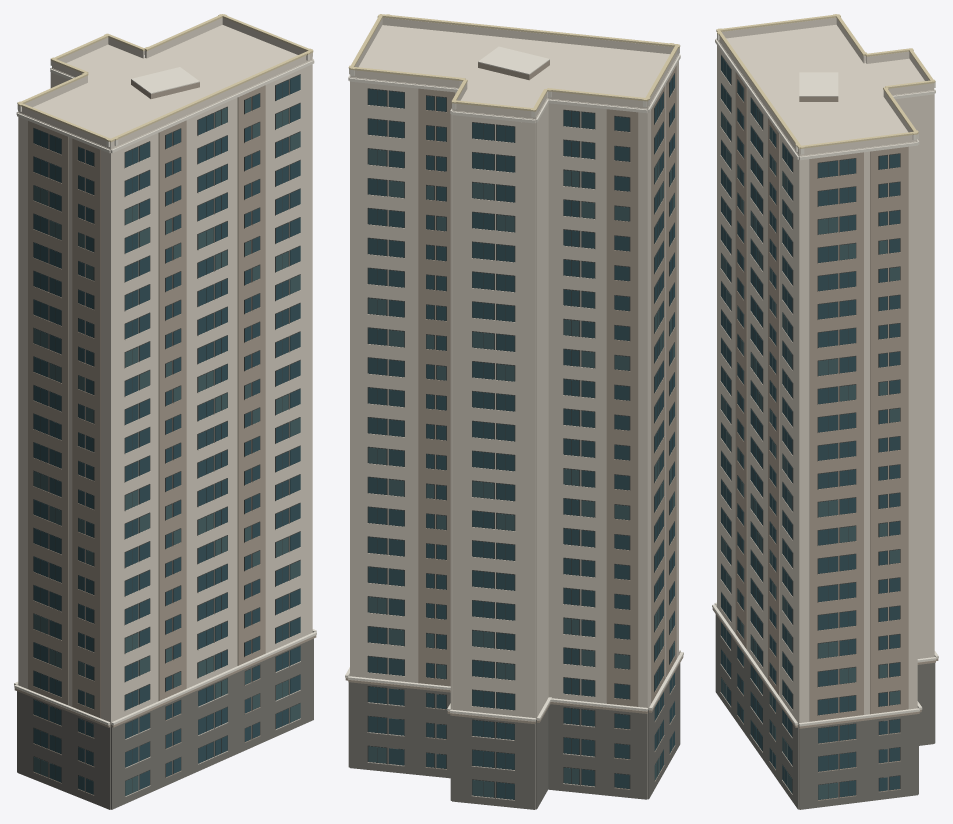
Rendered from bespoke-raemian-prestige-126.glb.
3 renders of one model, left to right at view 1: azimuth 30°, elevation 25°; view 2: azimuth 150°, elevation 25°; view 3: azimuth 270°, elevation 25°, orthographic. The views are drawn at different scales.
Parts seen in each view (by area): view 1: Prestige_warm_ivory_rendered_wall004, Prestige_wide_taupe_pilasters004, Prestige_recessed_blue_green_window004, Prestige_dark_bronze_thin_window_frame004, Prestige_dark_brown_grey_stone_base004, Prestige_muted_green_window_pair004, Prestige_pale_limestone_band004, Prestige_cream_gold_crown_coping004; view 2: Prestige_warm_ivory_rendered_wall004, Prestige_recessed_blue_green_window004, Prestige_wide_taupe_pilasters004, Prestige_dark_brown_grey_stone_base004, Prestige_dark_bronze_thin_window_frame004, Prestige_muted_green_window_pair004, Prestige_pale_limestone_band004, Prestige_cream_gold_crown_coping004; view 3: Prestige_warm_ivory_rendered_wall004, Prestige_wide_taupe_pilasters004, Prestige_recessed_blue_green_window004, Prestige_dark_bronze_thin_window_frame004, Prestige_dark_brown_grey_stone_base004, Prestige_muted_green_window_pair004, Prestige_pale_limestone_band004, Prestige_cream_gold_crown_coping004.
Part boxes in pixels (<box>): Prestige_warm_ivory_rendered_wall004: <box>18,17,312,809</box>; Prestige_wide_taupe_pilasters004: <box>14,80,316,795</box>; Prestige_recessed_blue_green_window004: <box>33,75,300,794</box>; Prestige_dark_bronze_thin_window_frame004: <box>33,74,300,796</box>; Prestige_dark_brown_grey_stone_base004: <box>17,638,313,809</box>; Prestige_muted_green_window_pair004: <box>33,98,300,795</box>; Prestige_pale_limestone_band004: <box>14,51,316,725</box>; Prestige_cream_gold_crown_coping004: <box>17,14,313,142</box>; Prestige_warm_ivory_rendered_wall004: <box>350,17,678,808</box>; Prestige_recessed_blue_green_window004: <box>368,74,674,799</box>; Prestige_wide_taupe_pilasters004: <box>345,60,683,789</box>; Prestige_dark_brown_grey_stone_base004: <box>348,654,680,809</box>; Prestige_dark_bronze_thin_window_frame004: <box>367,73,674,799</box>; Prestige_muted_green_window_pair004: <box>368,149,674,797</box>; Prestige_pale_limestone_band004: <box>345,46,683,721</box>; Prestige_cream_gold_crown_coping004: <box>348,14,680,111</box>; Prestige_warm_ivory_rendered_wall004: <box>717,17,934,808</box>; Prestige_wide_taupe_pilasters004: <box>712,72,938,800</box>; Prestige_recessed_blue_green_window004: <box>721,56,899,797</box>; Prestige_dark_bronze_thin_window_frame004: <box>721,54,900,799</box>; Prestige_dark_brown_grey_stone_base004: <box>715,606,935,809</box>; Prestige_muted_green_window_pair004: <box>721,108,899,799</box>; Prestige_pale_limestone_band004: <box>712,34,938,726</box>; Prestige_cream_gold_crown_coping004: <box>716,14,935,148</box>.
Bounding box in the file's own units: 28.93 × 65.3 × 20.26.
